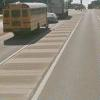Bus: (5, 0, 53, 41)
